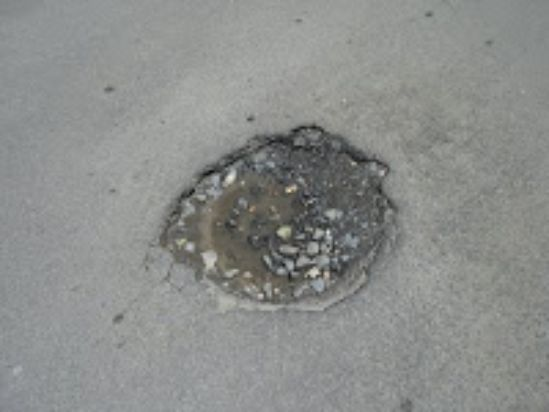pothole: (155, 121, 403, 316)
